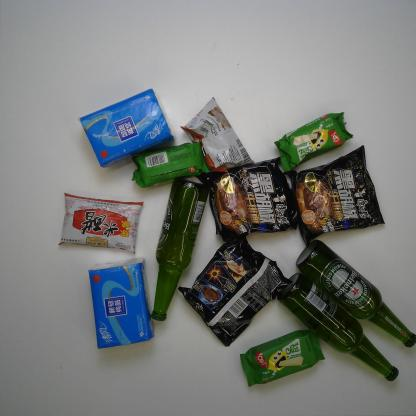Alcohol: (276, 272, 400, 382), (295, 239, 416, 349), (150, 178, 210, 322)
Dessert: (239, 329, 326, 388), (272, 111, 354, 172), (131, 140, 211, 188)
Instant Noodles: (178, 233, 294, 347), (282, 144, 385, 248), (198, 155, 299, 244)
Seasoner: (179, 96, 255, 173), (58, 191, 144, 254)
Tissue: (78, 88, 176, 169), (88, 257, 156, 349)
